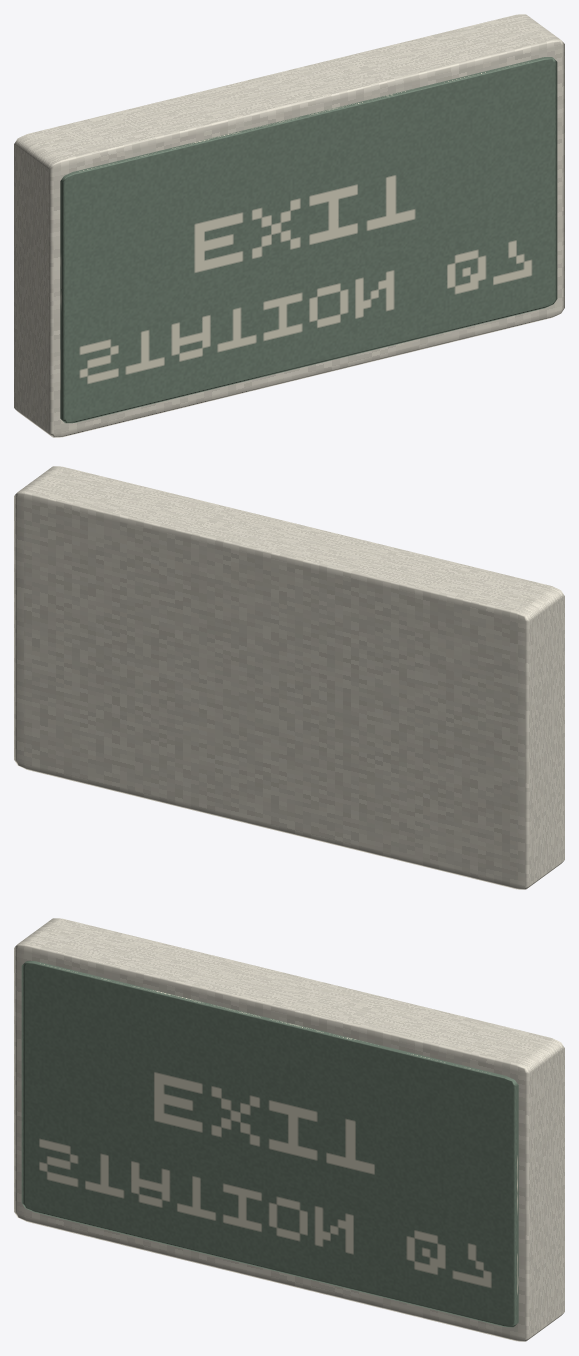
File: exit.glb
The picture shows the model from 3 angles, top to bottom: view 1: azimuth 30°, elevation 25°; view 2: azimuth 150°, elevation 25°; view 3: azimuth 330°, elevation 25°; orthographic projection.
Parts seen in each view (by area): view 1: lettering, housing; view 2: housing; view 3: lettering, housing.
Boxes of the visible parts, <box> form: lettering: <box>60,57,557,423</box>; housing: <box>14,14,564,437</box>; housing: <box>14,466,564,889</box>; lettering: <box>21,961,518,1327</box>; housing: <box>14,918,564,1341</box>.
Size of the model in its own units: 0.35 by 0.18 by 0.0455.
Materials: 2 (2 with a texture image).
